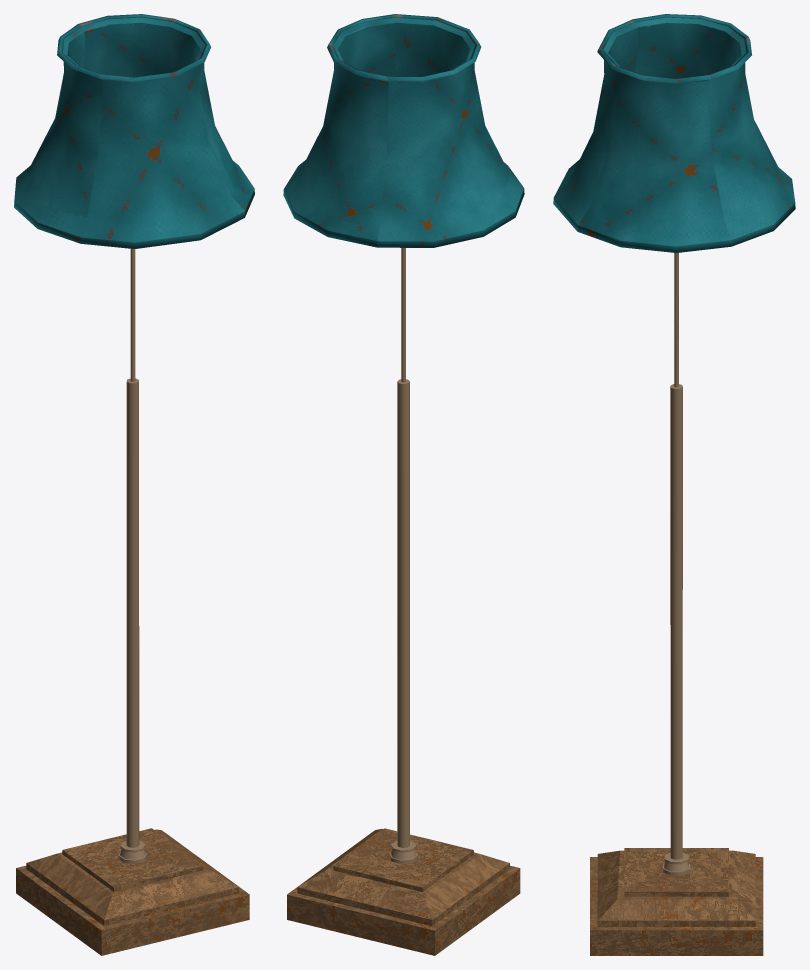
The model's file is Lamp.fbx.
3 views of the same model, side by side, from view 1: azimuth 30°, elevation 25°; view 2: azimuth 150°, elevation 25°; view 3: azimuth 270°, elevation 25° (orthographic).
Visible parts, largest first — view 1: Retopo_defaultMaterial.002, Retopo_defaultMaterial.001, Retopo_defaultMaterial; view 2: Retopo_defaultMaterial.002, Retopo_defaultMaterial.001, Retopo_defaultMaterial; view 3: Retopo_defaultMaterial.002, Retopo_defaultMaterial.001, Retopo_defaultMaterial.
Boxes of the visible parts, bbox=[...] form: Retopo_defaultMaterial.002: bbox=[14, 14, 254, 248]; Retopo_defaultMaterial.001: bbox=[16, 828, 249, 955]; Retopo_defaultMaterial: bbox=[118, 249, 147, 863]; Retopo_defaultMaterial.002: bbox=[283, 14, 524, 247]; Retopo_defaultMaterial.001: bbox=[287, 828, 520, 955]; Retopo_defaultMaterial: bbox=[389, 248, 418, 863]; Retopo_defaultMaterial.002: bbox=[553, 14, 795, 252]; Retopo_defaultMaterial.001: bbox=[590, 848, 763, 955]; Retopo_defaultMaterial: bbox=[663, 253, 690, 875].
Bounding box in the file's own units: 51.03 × 200 × 50.3.
Materials: 1 (1 with a texture image).
